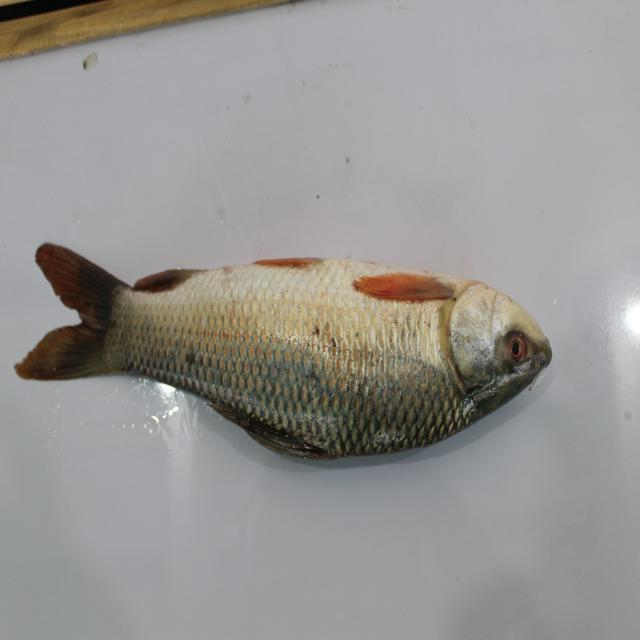Rohu: (14, 226, 554, 451)
